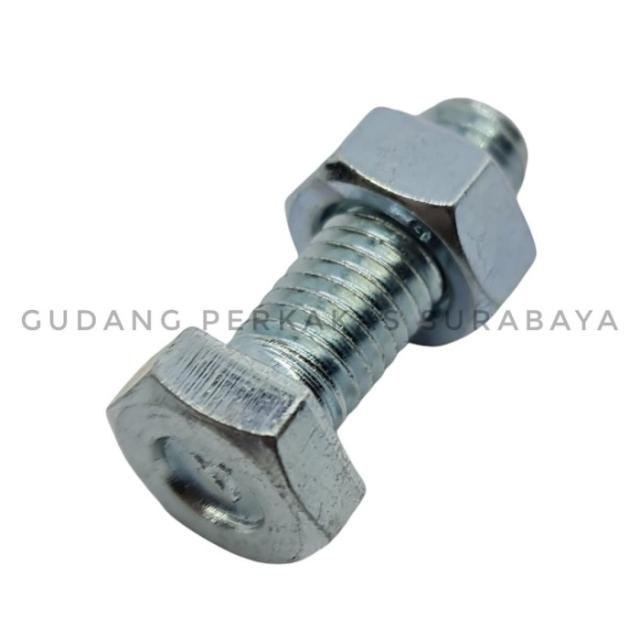Logam: (105, 35, 578, 570)
